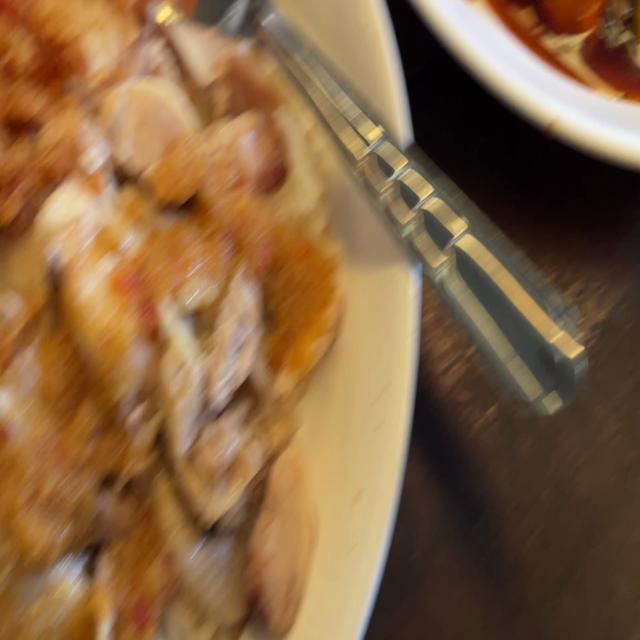boiled_chicken: (12, 160, 287, 624)
chicken_rice: (0, 0, 344, 640)
fried_chicken: (0, 0, 129, 211)
